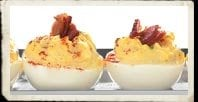soup: (23, 13, 104, 91)
